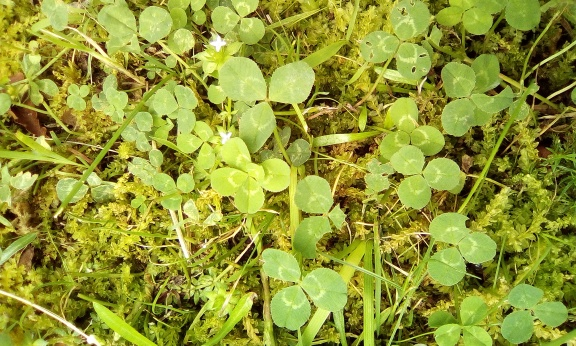4leaf: (209, 136, 291, 215)
